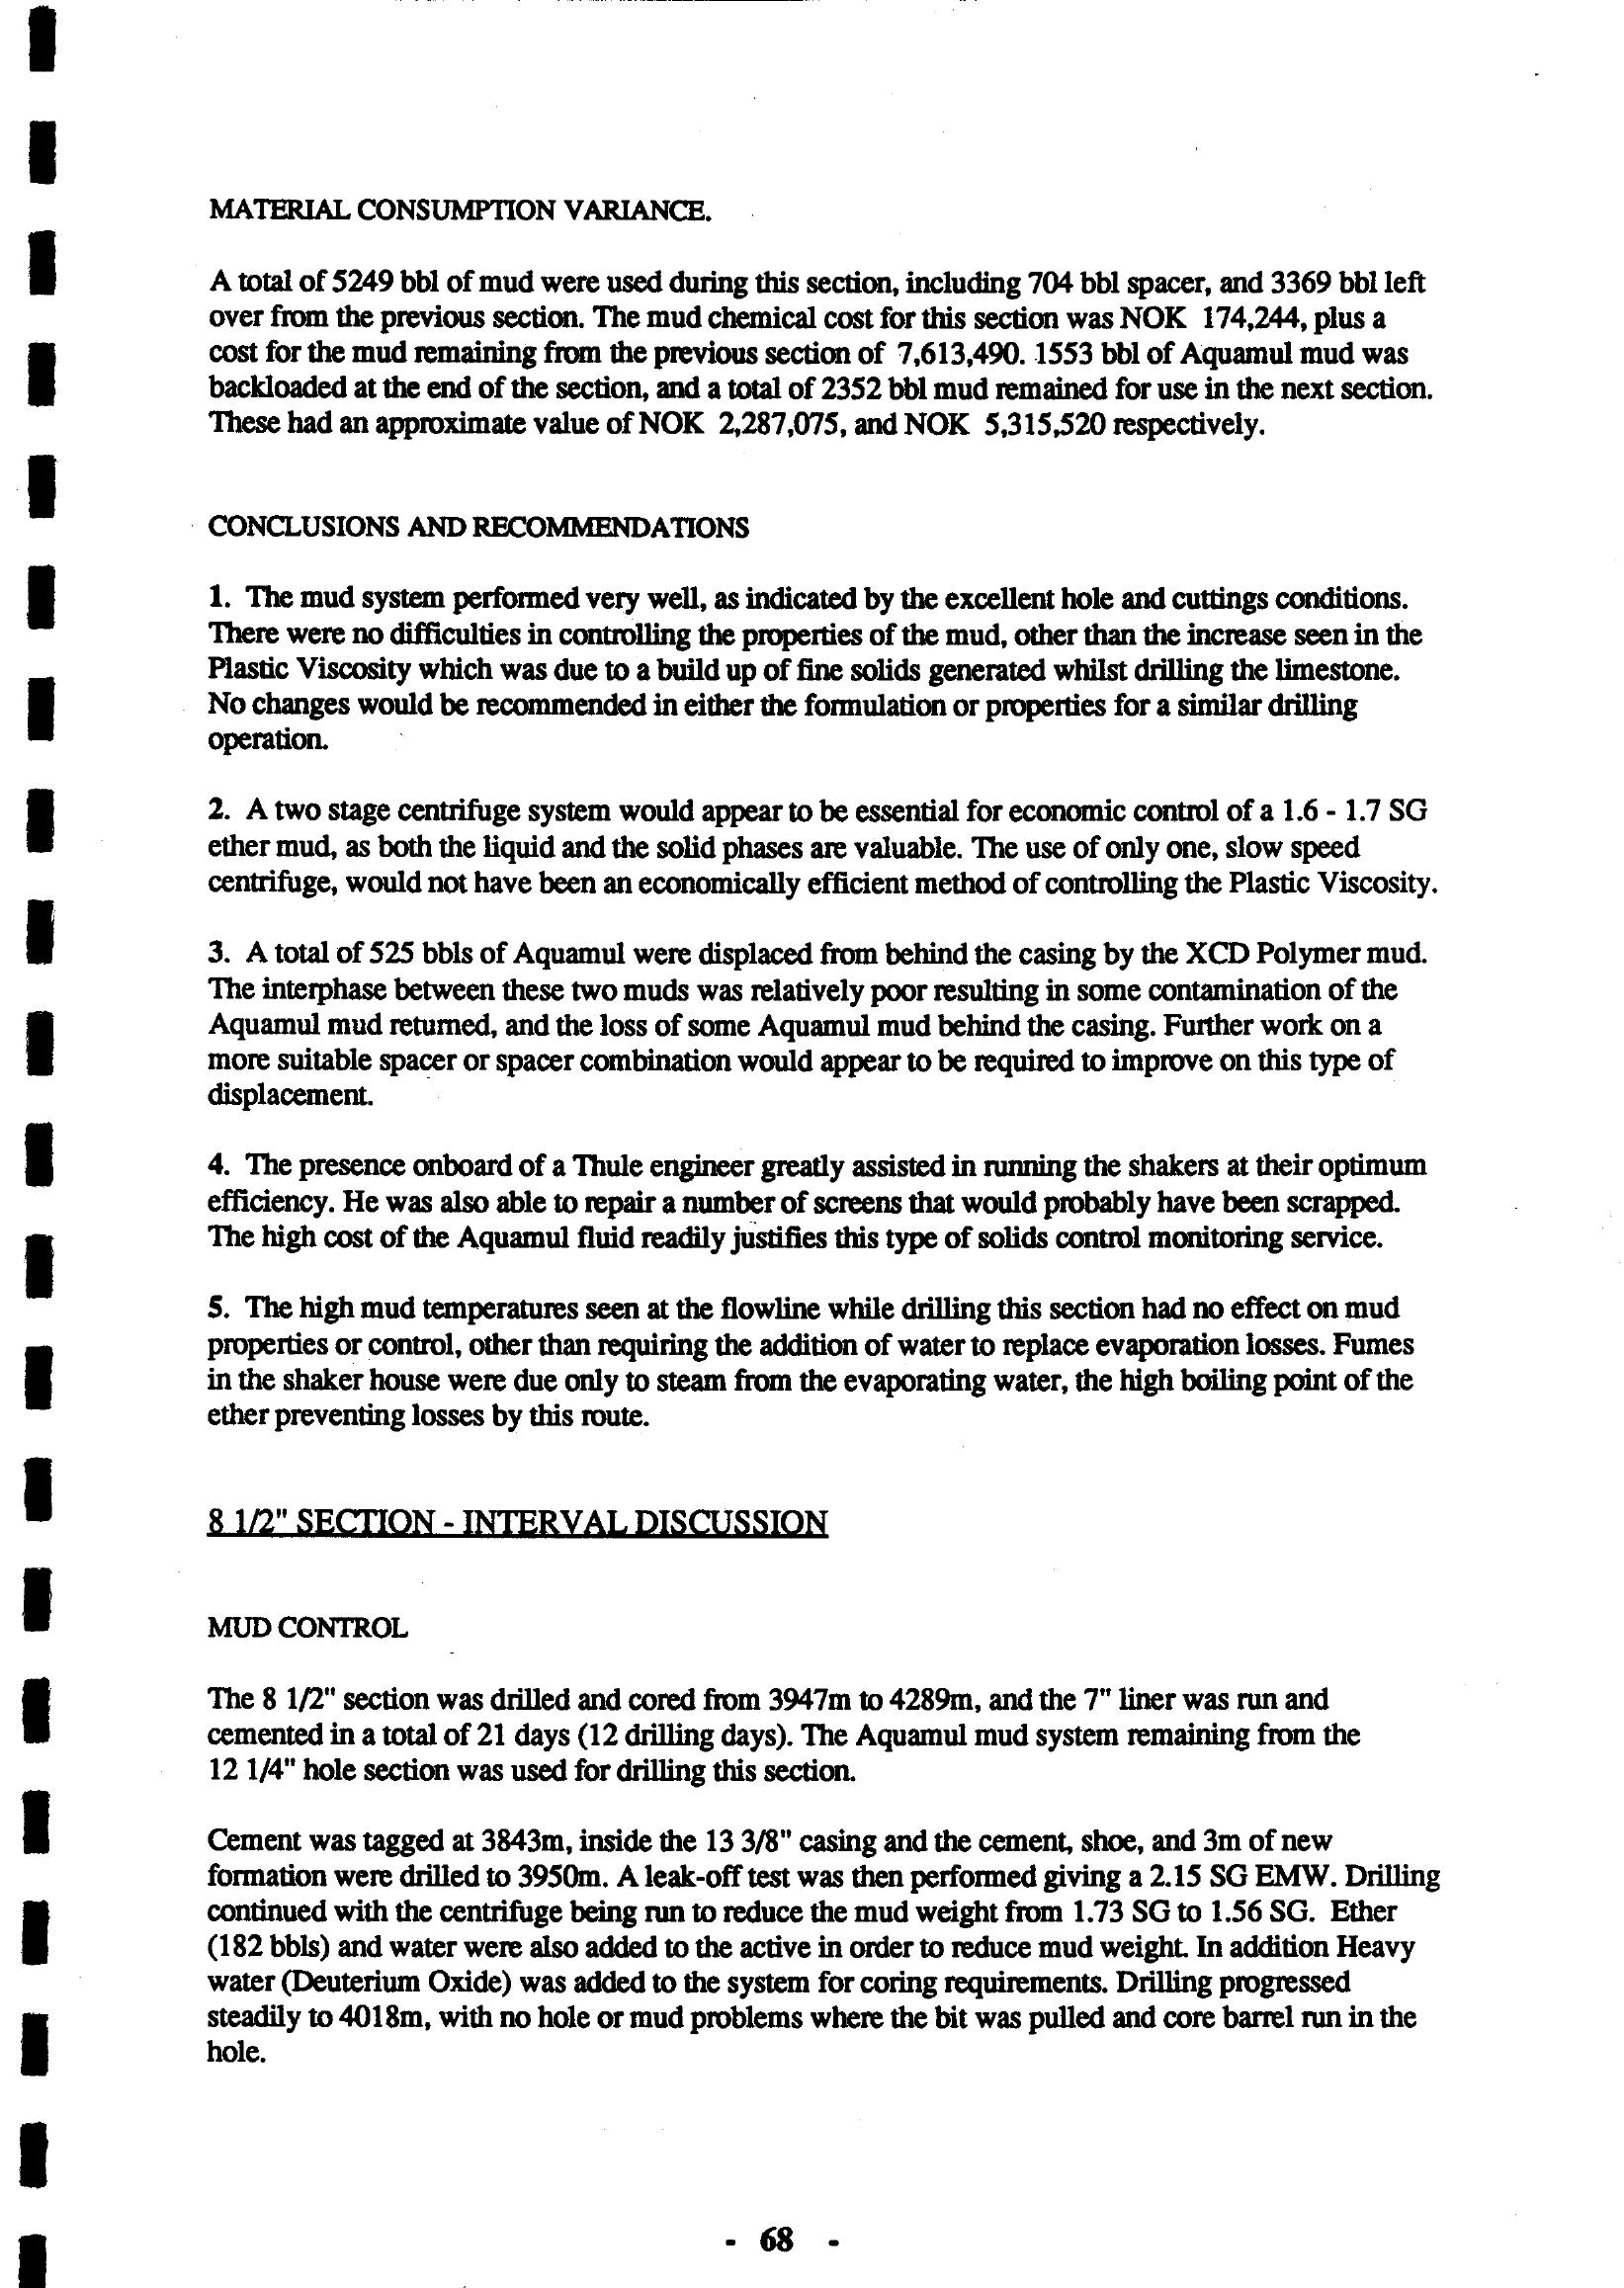text: (167, 179, 1475, 2093)
